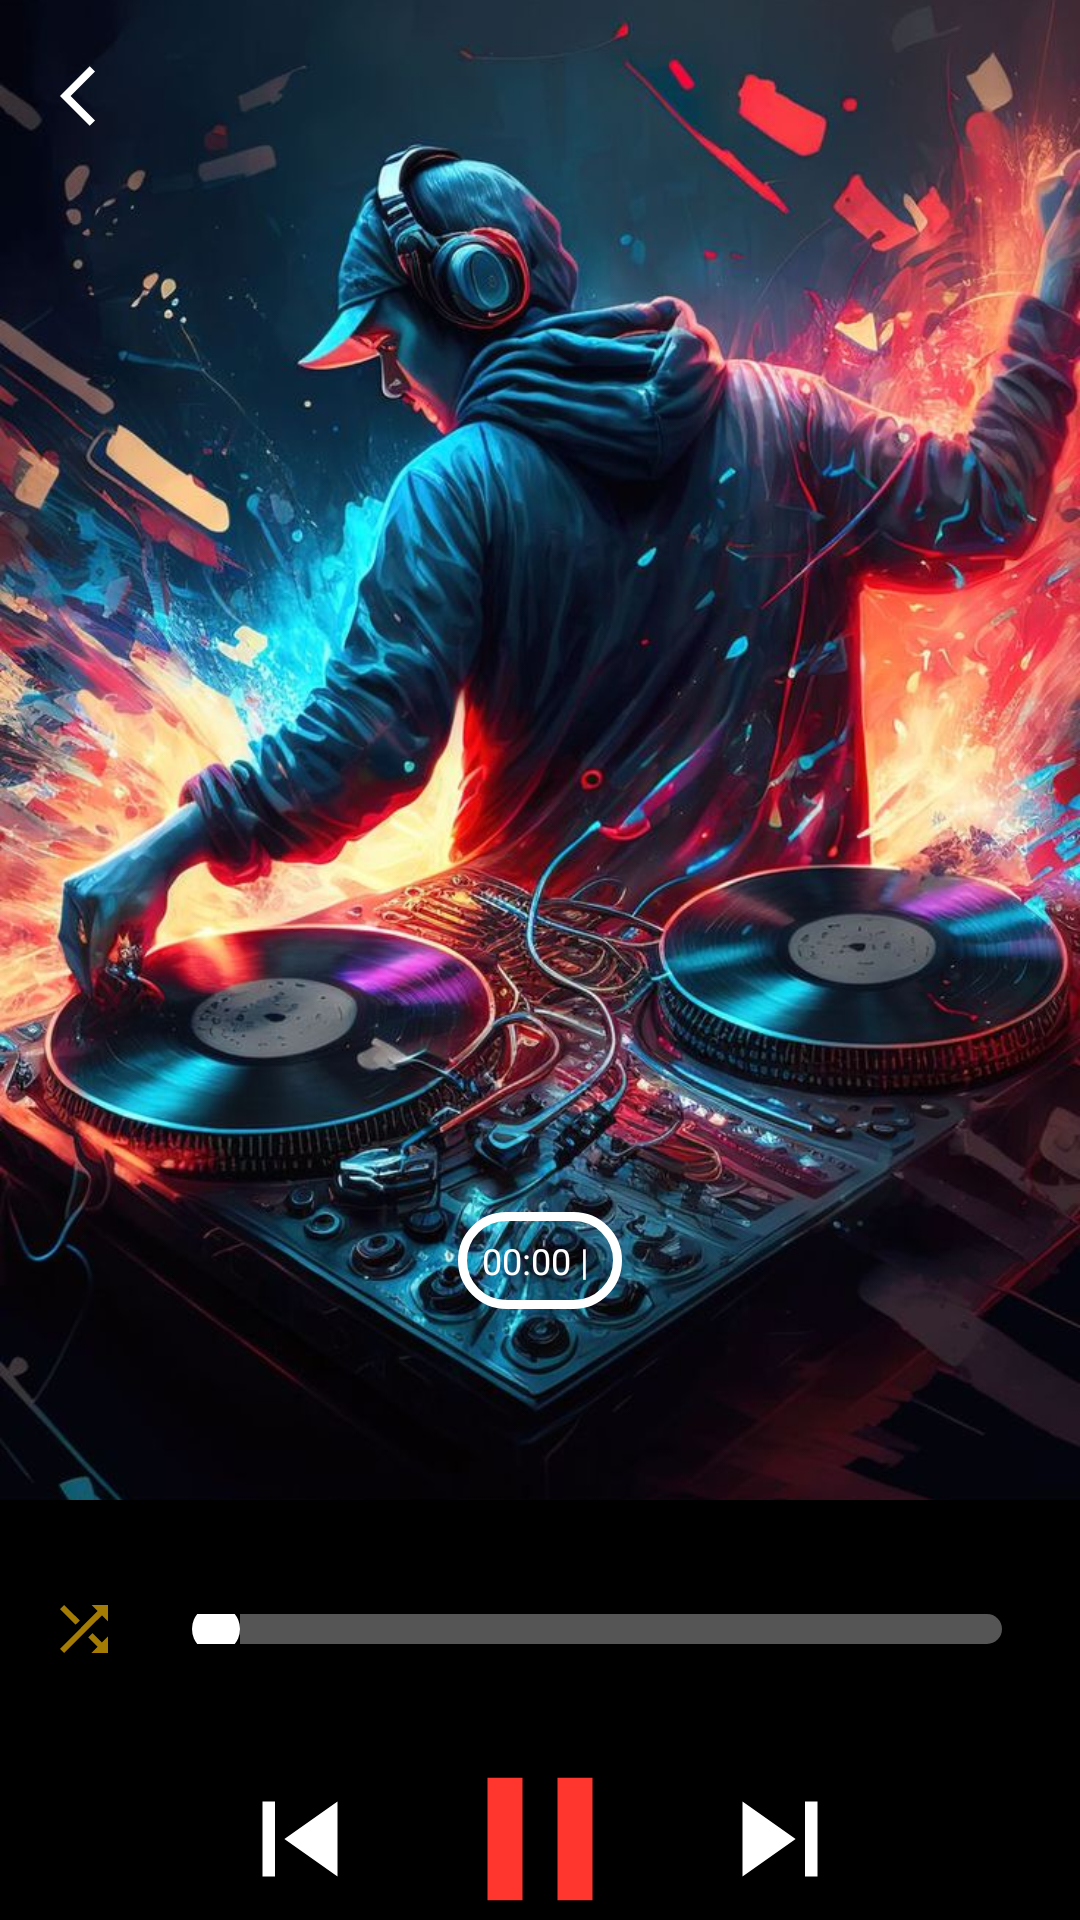

Where to tap for icons on this 1080 x 1920 app screen, as (x,y):
shuffle: (84,1629)
skip next: (780,1839)
skip previous: (300,1839)
